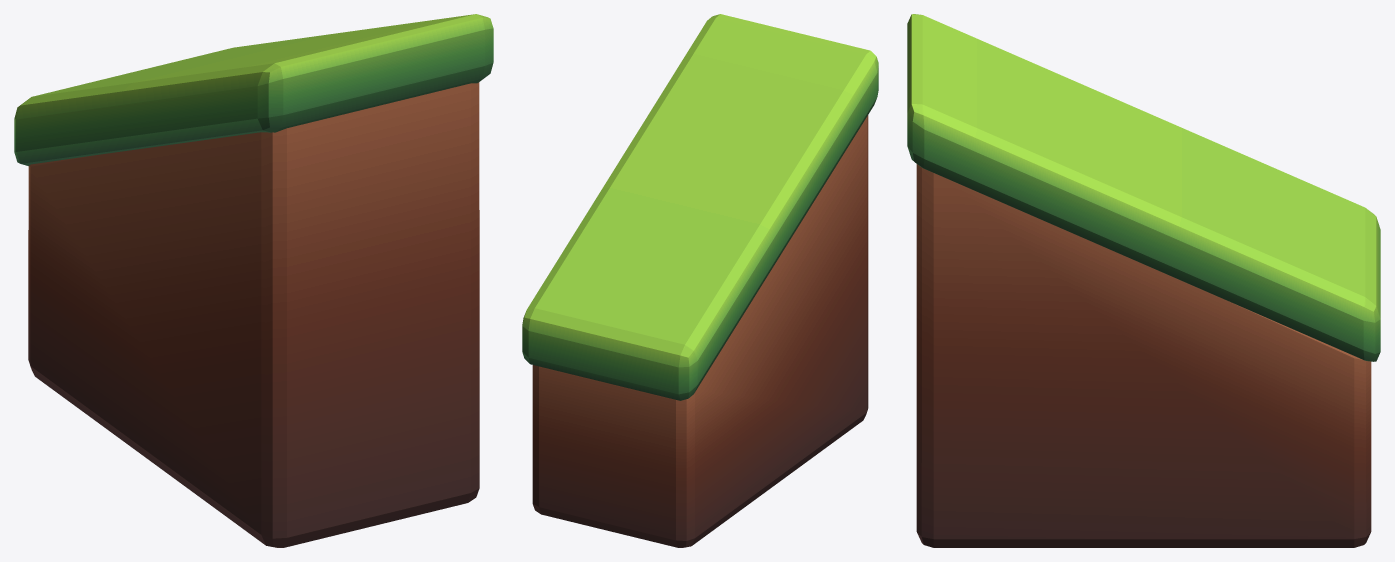
Rendered from upndown.fbx.
The picture shows the model from 3 angles, left to right: view 1: azimuth 30°, elevation 25°; view 2: azimuth 150°, elevation 25°; view 3: azimuth 270°, elevation 25°; orthographic projection. The views are drawn at different scales.
Visible parts, largest first — view 1: Cube.007; view 2: Cube.007; view 3: Cube.007.
Part boxes in pixels (bbox=[...]): Cube.007: bbox=[14, 14, 493, 547]; Cube.007: bbox=[522, 14, 878, 547]; Cube.007: bbox=[907, 14, 1380, 547].
Bounding box in the file's own units: 2.17 × 4.35 × 4.17.
